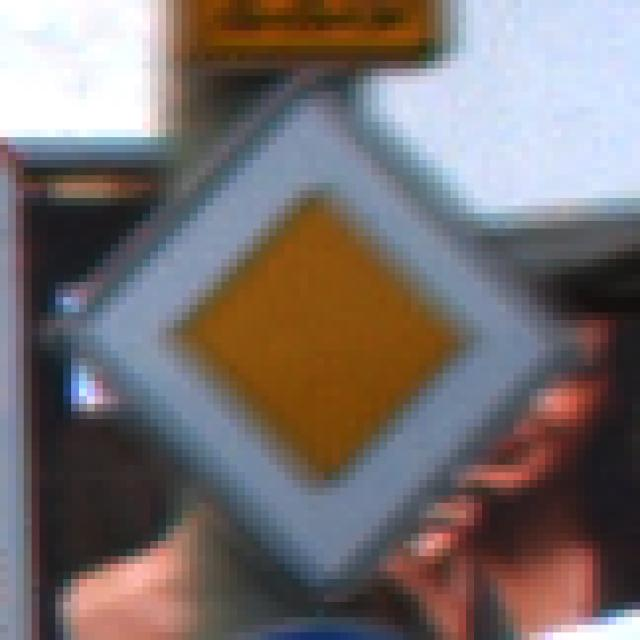Main Road: (56, 62, 586, 588)
